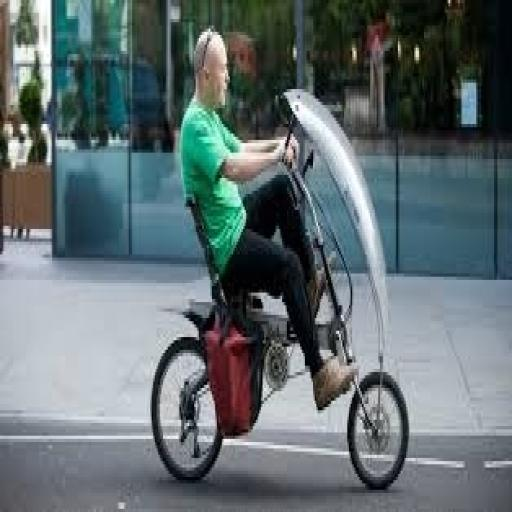cycling: (178, 26, 362, 414)
